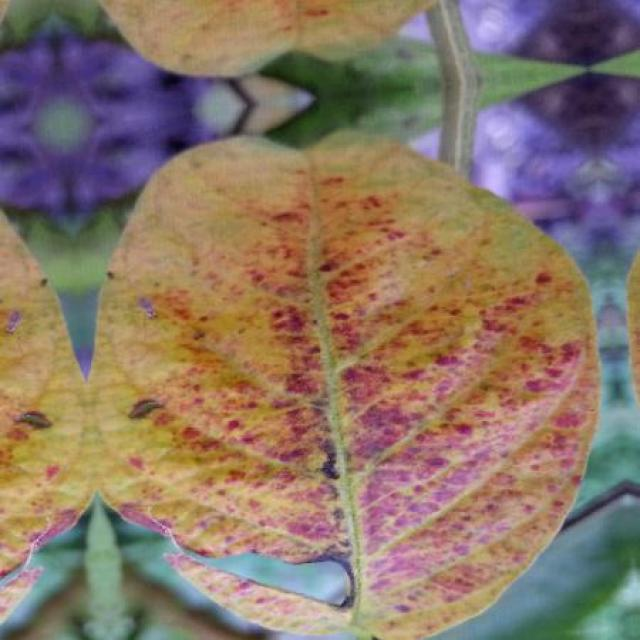Red Rust: (91, 134, 599, 640)
